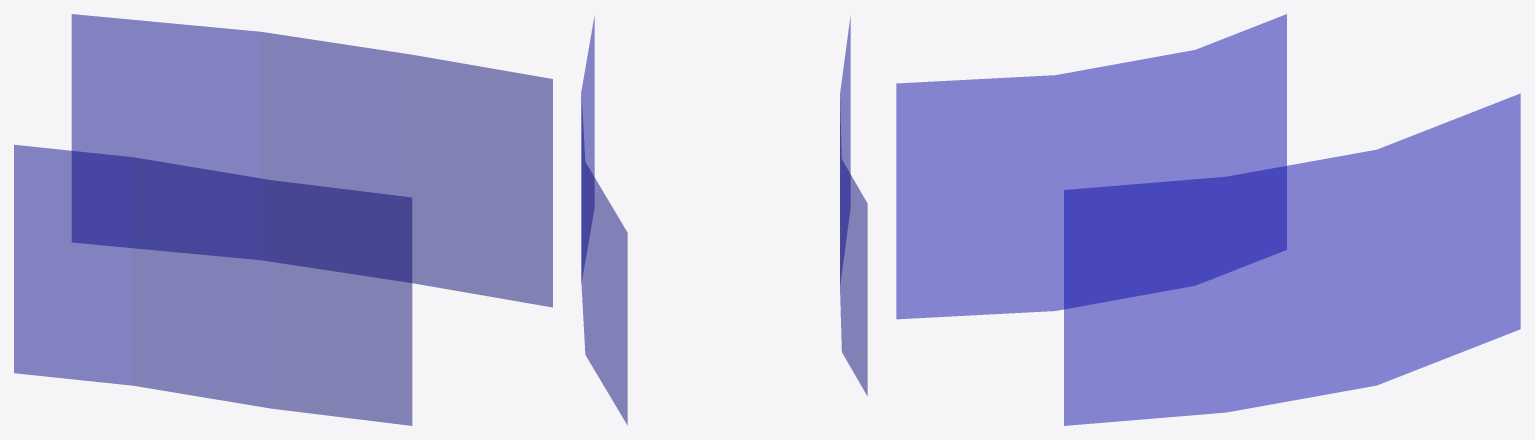
File: track_military_coll_wall_24.fbx
3 views of the same model, side by side, from view 1: azimuth 30°, elevation 25°; view 2: azimuth 150°, elevation 25°; view 3: azimuth 270°, elevation 25° (orthographic). The views are drawn at different scales.
Parts seen in each view (by area): view 1: track_military_coll_wall_24; view 2: track_military_coll_wall_24; view 3: track_military_coll_wall_24.
Boxes of the visible parts, x1,y1,x2,y2 form: track_military_coll_wall_24: (14,14,552,425); track_military_coll_wall_24: (581,16,867,424); track_military_coll_wall_24: (896,14,1520,425).
Bounding box in the file's own units: 62.86 × 37.39 × 76.39.
